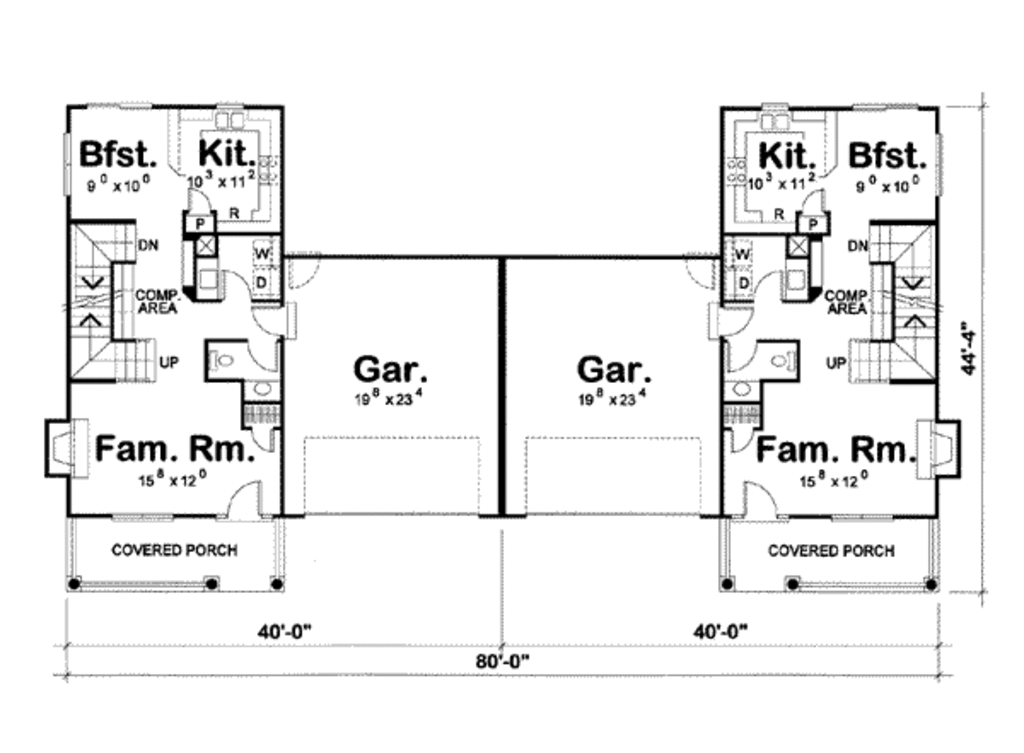door: (704, 295, 756, 349), (218, 474, 274, 520), (740, 472, 788, 523), (721, 417, 775, 458), (677, 245, 721, 291), (281, 251, 331, 286), (251, 303, 299, 338), (742, 264, 787, 301), (247, 335, 284, 374), (240, 418, 280, 449), (219, 269, 254, 302), (182, 185, 214, 217), (797, 186, 830, 211)
large_sink: (759, 334, 802, 372), (209, 343, 241, 376)
small_sink: (242, 380, 288, 403), (728, 379, 759, 401)
stairs: (847, 217, 949, 387), (67, 220, 166, 381)
twin_sink: (751, 99, 800, 137), (213, 100, 251, 137)
window: (62, 129, 79, 203), (823, 510, 895, 526), (102, 510, 173, 526), (932, 127, 947, 197)
